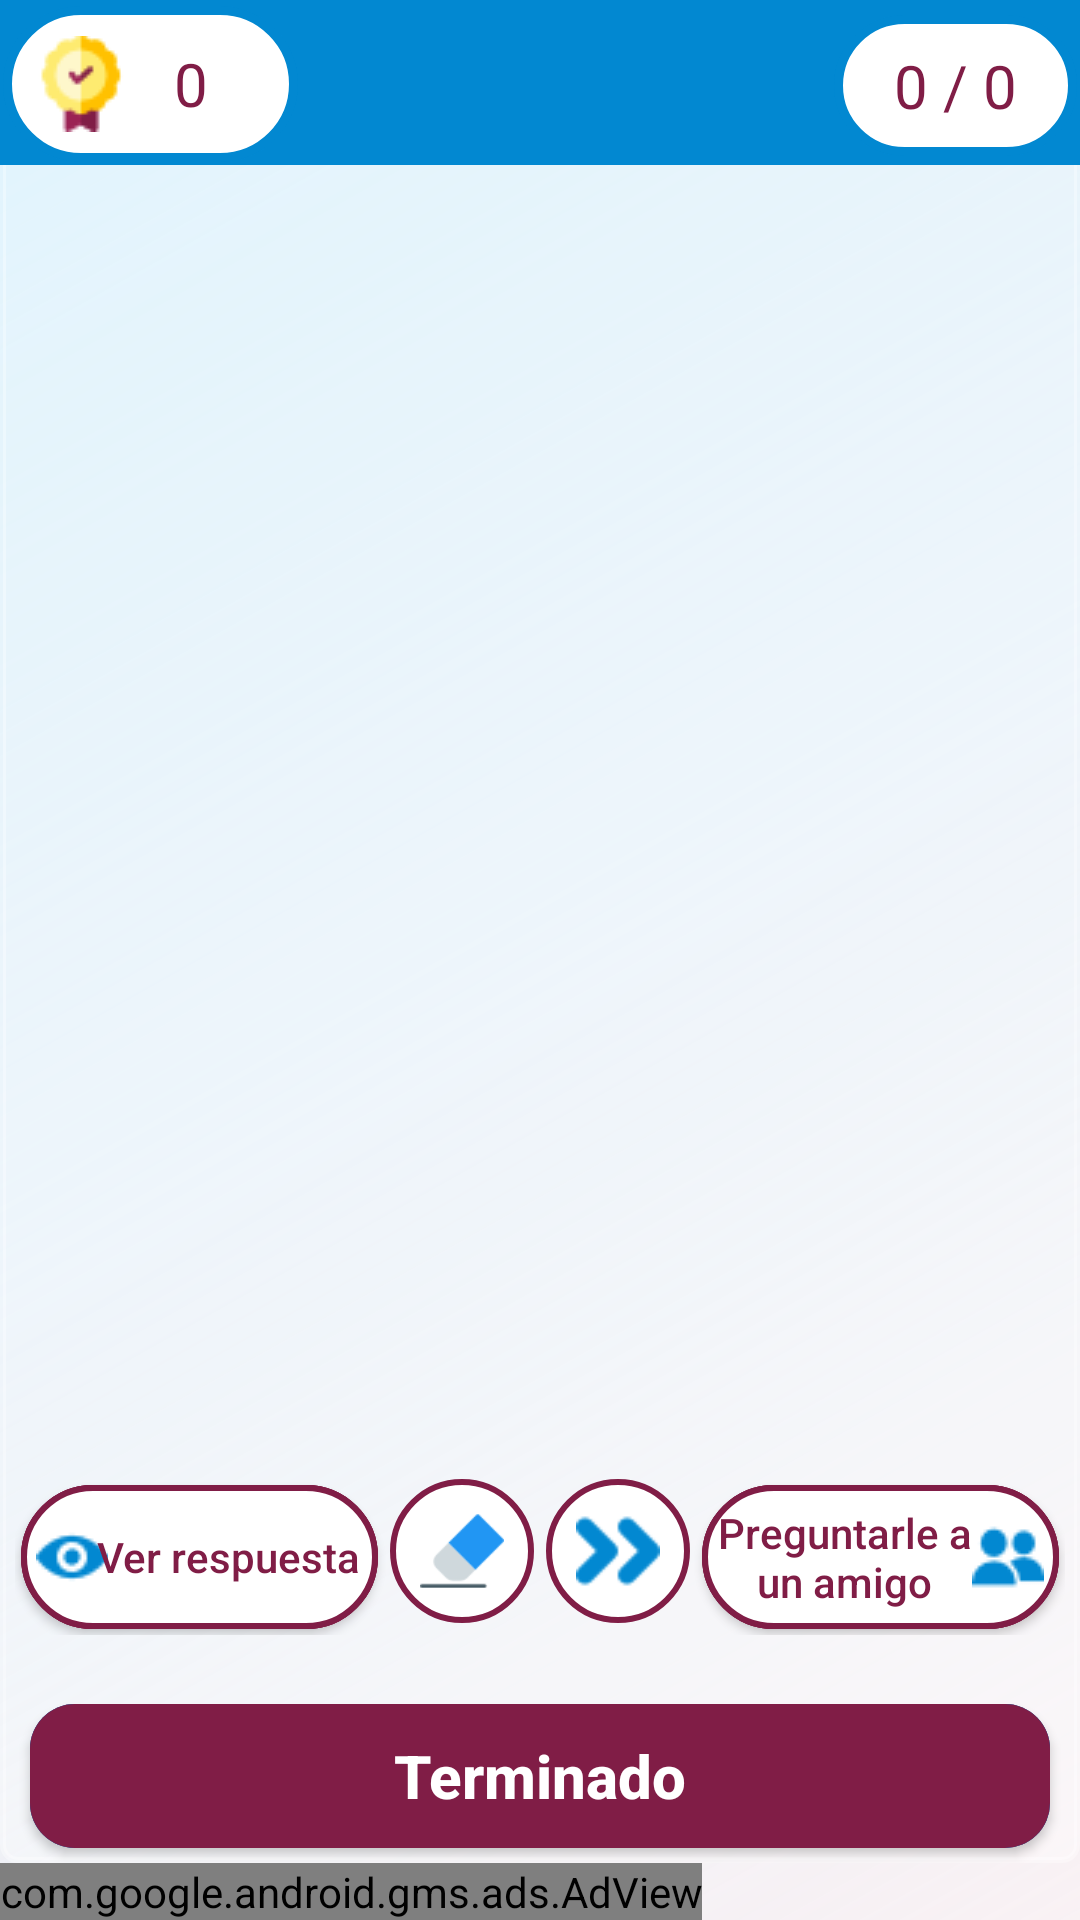

Named icons in this screenshot (1080 x 1920) and their bounding boxes, (x1=x1, y1=y1, x2=x2, y2=y2):
reset: (x1=390, y1=1479, x2=534, y2=1623)
skip: (x1=546, y1=1479, x2=690, y2=1623)
